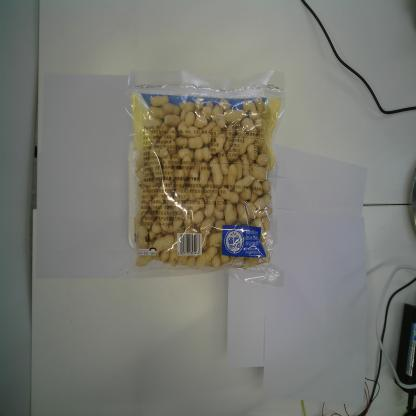Dried Food: (124, 69, 285, 288)
